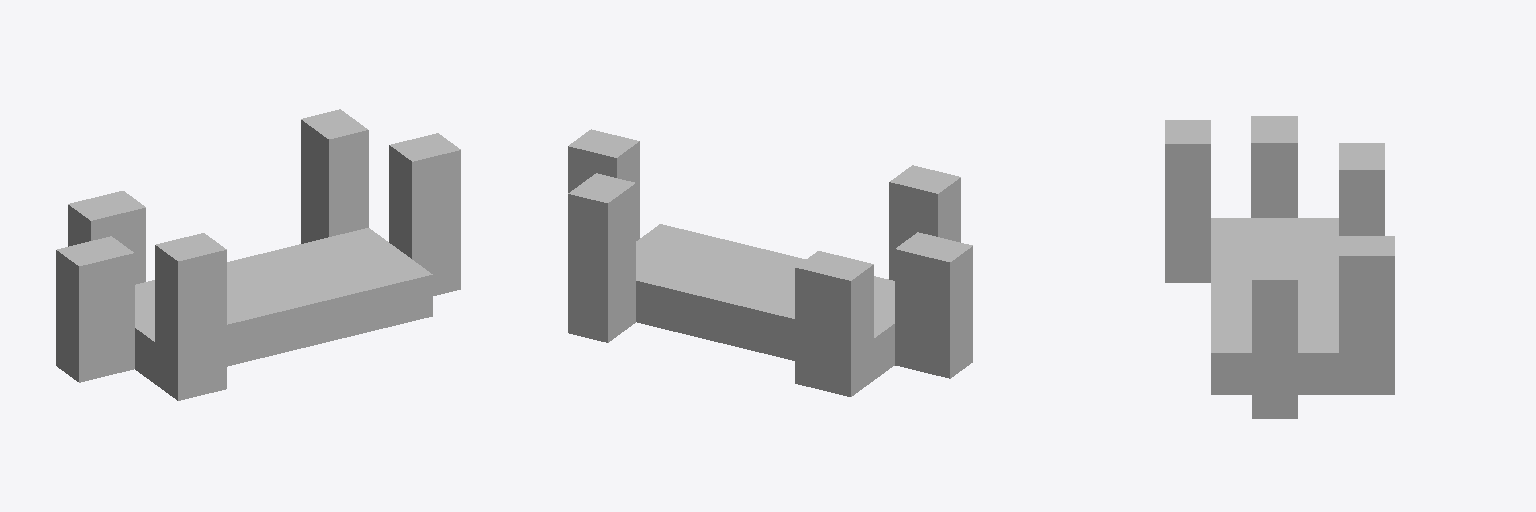
The model's file is Distractor_06.obj.
3 renders of one model, left to right at view 1: azimuth 30°, elevation 25°; view 2: azimuth 150°, elevation 25°; view 3: azimuth 270°, elevation 25°, orthographic.
Parts seen in each view (by area): view 1: mesh_1_Thick-3; view 2: mesh_1_Thick-3; view 3: mesh_1_Thick-3.
Part boxes in pixels (x1,y1,x2,y2): mesh_1_Thick-3: (56,109,460,400); mesh_1_Thick-3: (568,129,972,396); mesh_1_Thick-3: (1165,116,1394,418).
Size of the model in its own units: 0.172 by 0.06 by 0.09.